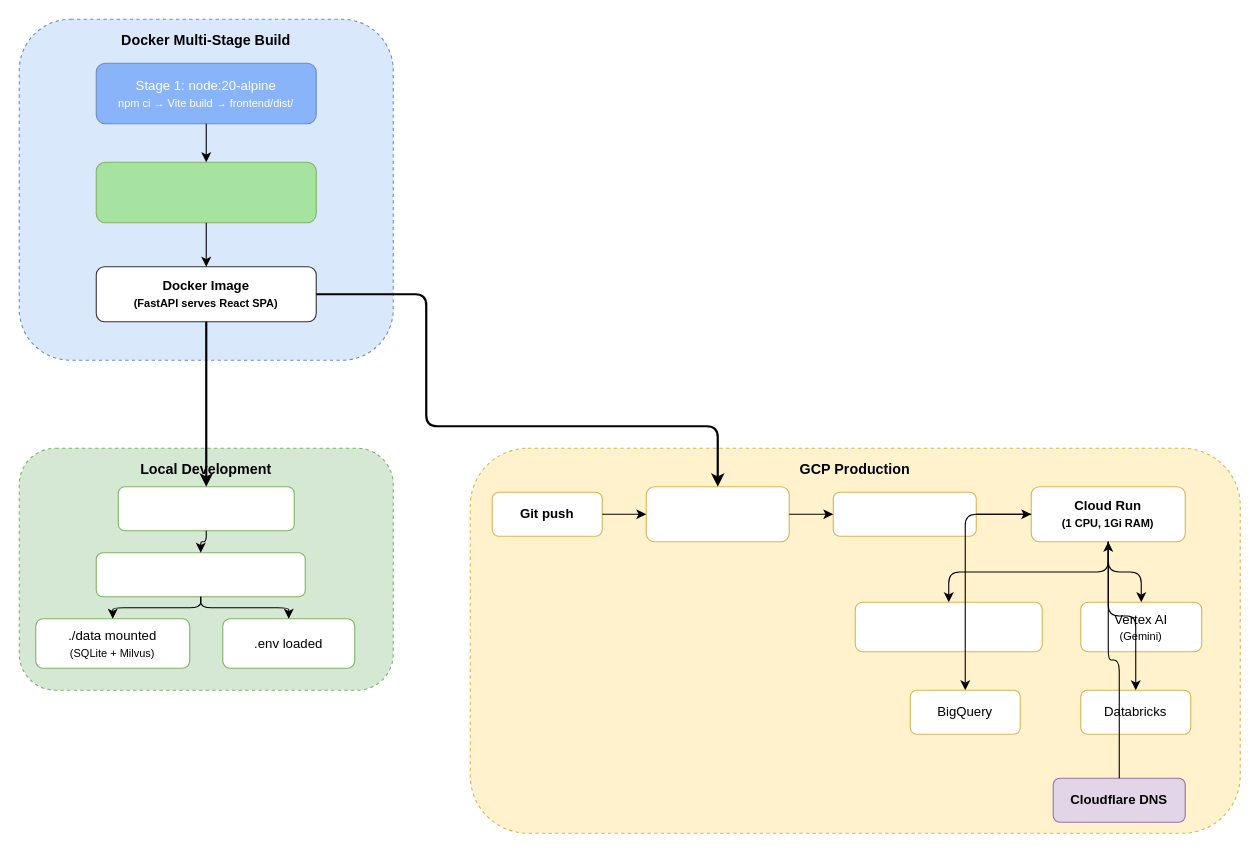
This 1260x853 diagram has some shape labels left out. Here are the shapes that lost their labels. From the top down, the centre of each, then its label:
At pixel 205 192: "Stage 2: python:3.12-slim uv pip install + copy frontend dist".
At pixel 205 508: "docker-compose up".
At pixel 717 514: "Cloud Build (cloudbuild.yaml)".
At pixel 904 513: "Artifact Registry".
At pixel 200 574: "Container :8001 → :8000".
At pixel 948 626: "GCS Bucket (FUSE mount at /app/data)".
